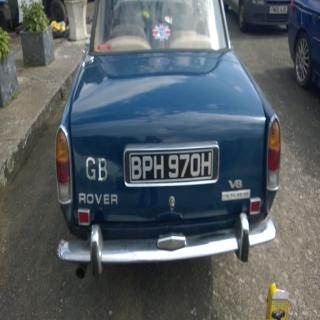license: (128, 146, 210, 194), (272, 4, 290, 18)
